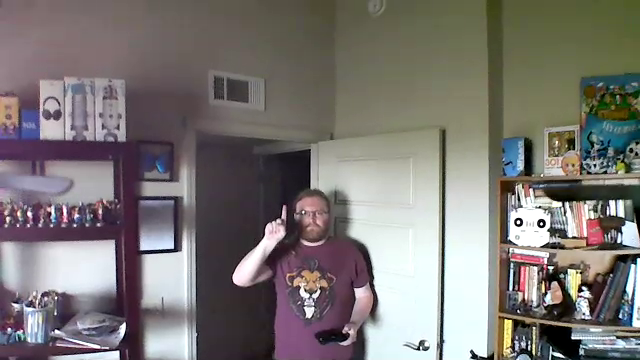up: (260, 200, 290, 244)
